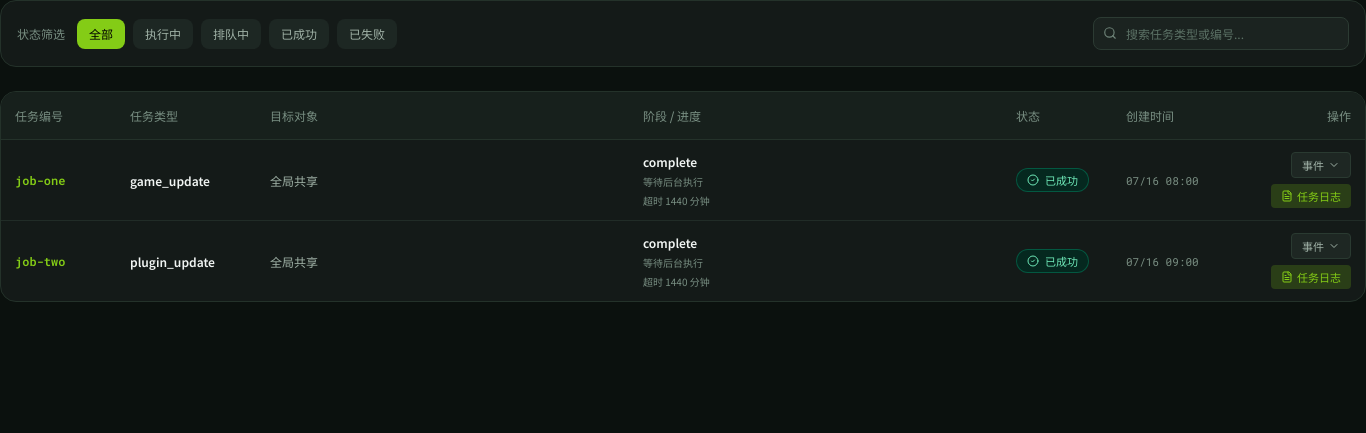
Scenario: JobsPage › keeps only one task log expanded
This screenshot has width=1366, height=433.
Click the button with aria-label "查看 game_update 任务日志，任务 ID job-one".
click(1321, 165)  # box [1291, 152, 1351, 178]
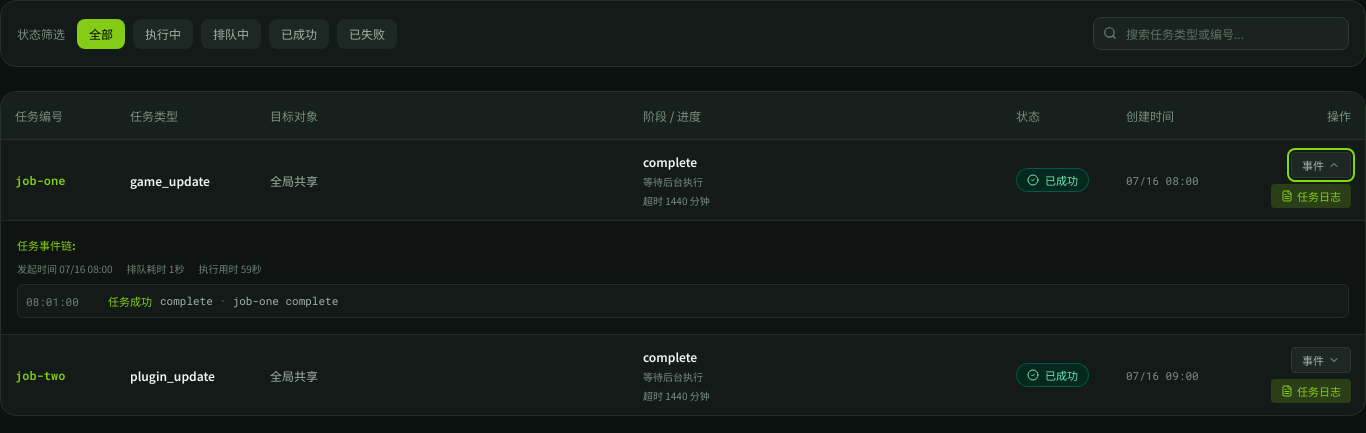
Now the element named "game_update 任务日志" shows "job-one complete", box [233, 293, 338, 308]
Now the text "任务事件链:" is shown, box [17, 237, 76, 253]
Click the button "任务日志" in the row of "game_update".
click(1311, 196)  # box [1271, 184, 1351, 208]
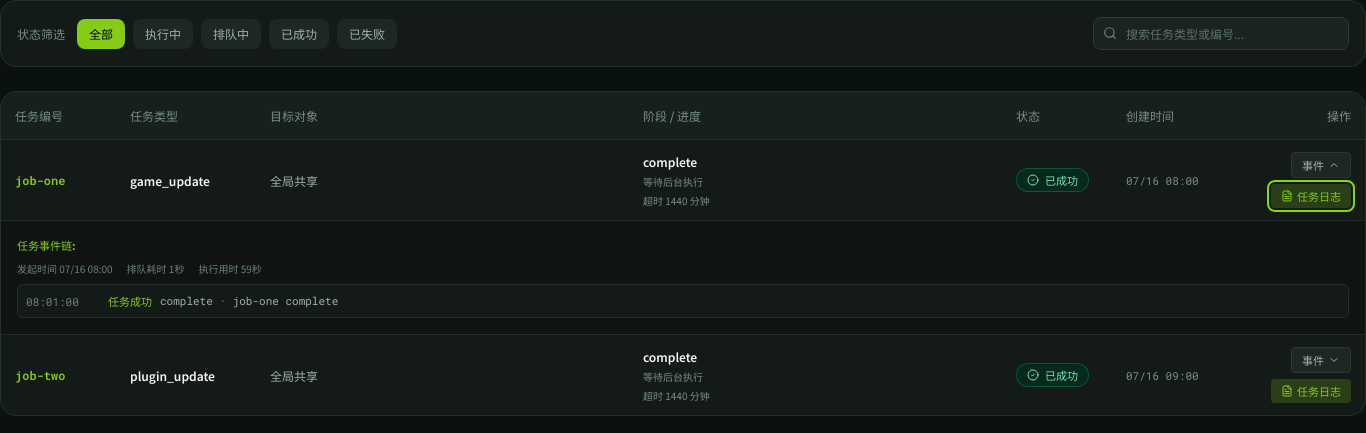
Click the button with aria-label "查看 plugin_update 任务日志，任务 ID job-two".
click(1321, 360)  # box [1291, 347, 1351, 373]
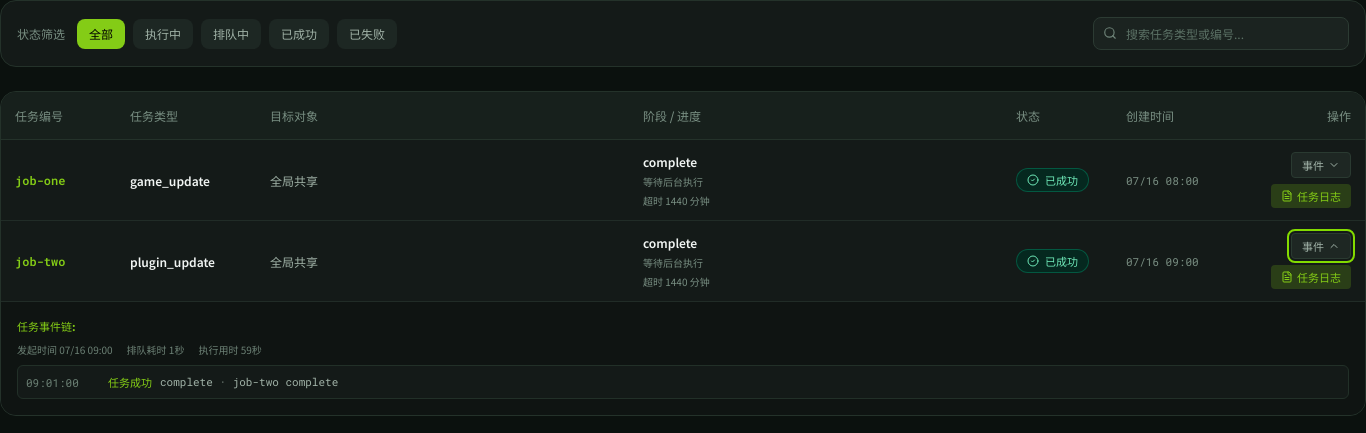
Now the element named "plugin_update 任务日志" shows "job-two complete", box [233, 374, 338, 389]
Now the text "job-one complete" is gone
